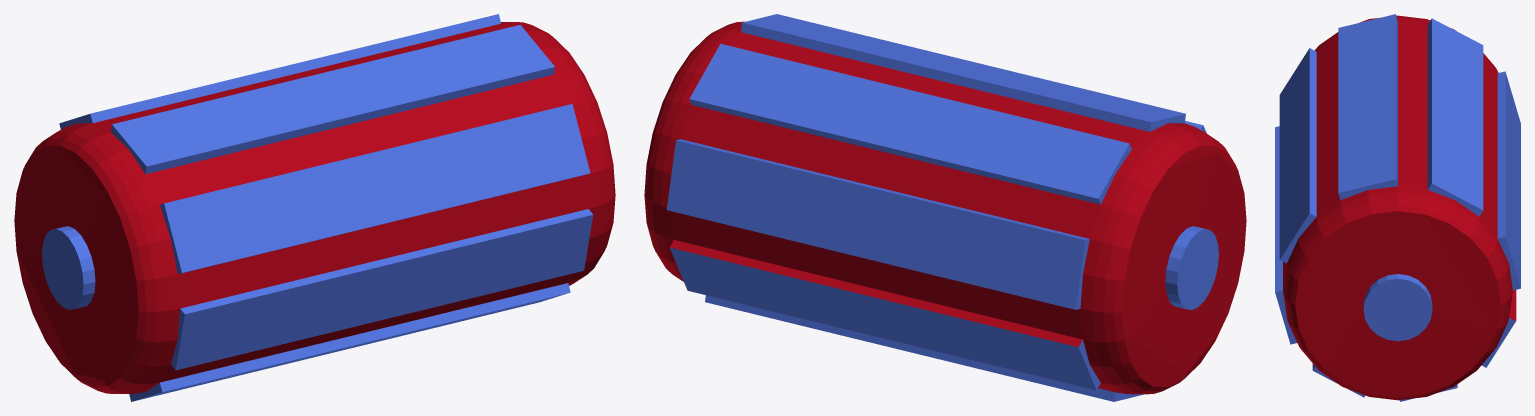
File: Rolling barrel.fbx
The picture shows the model from 3 angles, left to right: view 1: azimuth 30°, elevation 25°; view 2: azimuth 150°, elevation 25°; view 3: azimuth 270°, elevation 25°; orthographic projection. The views are drawn at different scales.
Visible parts, largest first — view 1: Rolling barrel; view 2: Rolling barrel; view 3: Rolling barrel.
Part boxes in pixels (bbox=[...]): Rolling barrel: bbox=[14, 14, 615, 401]; Rolling barrel: bbox=[644, 14, 1246, 401]; Rolling barrel: bbox=[1275, 14, 1520, 401].
Bounding box in the file's own units: 210 × 107 × 107.
